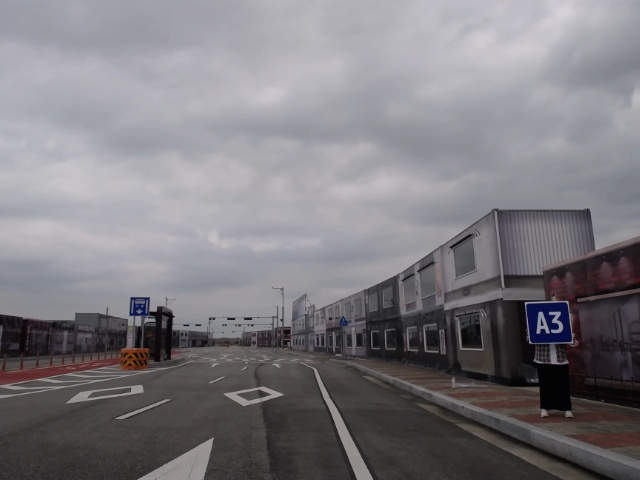delivery_a3: (525, 302, 573, 344)
